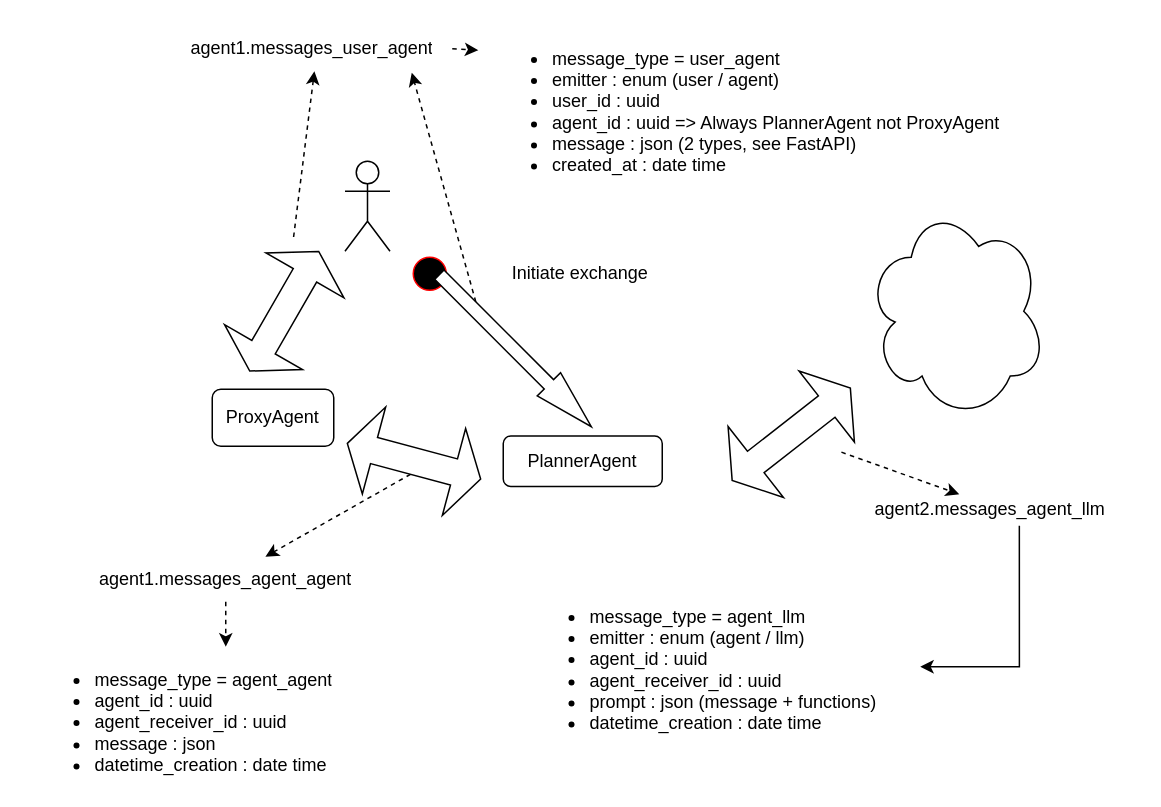
This 1161x807 diagram has some shape labels left out. The shapes that lost their labels are listed below. From the top down, each one's box as (x1, y1, x2, y2) in pixels, then its label:
(344, 160, 390, 251): Actor
(865, 202, 1046, 419): LLM
